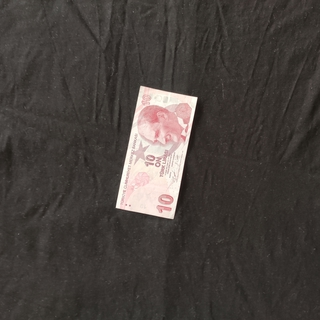10TLFront: (114, 85, 199, 220)
